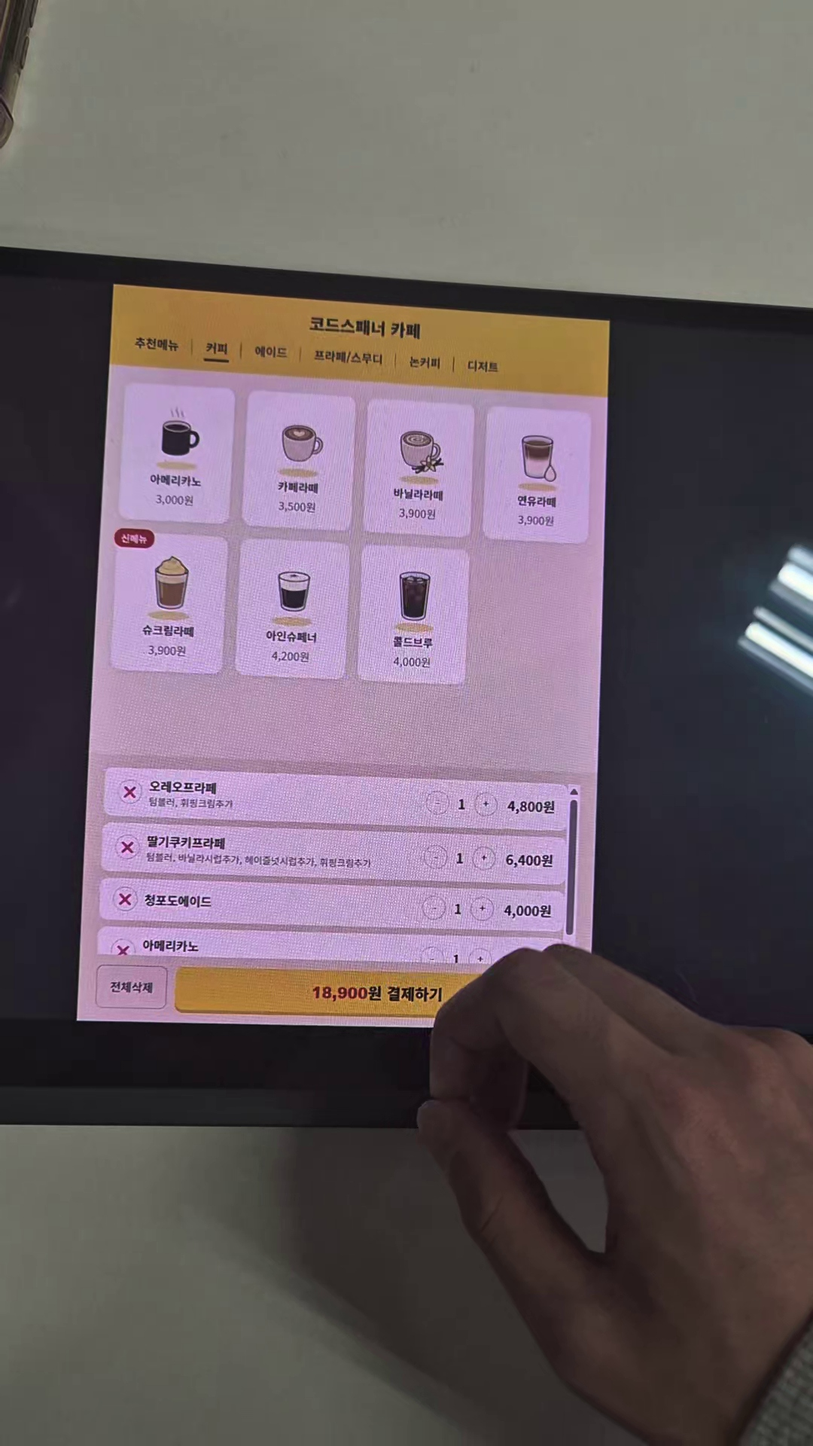action_button: (175, 966, 566, 1019), (95, 965, 167, 1008)
cart_item: (103, 768, 568, 832), (101, 822, 565, 885), (100, 878, 564, 933), (97, 926, 564, 967)
category_tab: (312, 347, 385, 368), (133, 331, 182, 356), (201, 338, 233, 358), (252, 343, 290, 359), (408, 354, 442, 370), (466, 359, 500, 375)
menu_back: (109, 528, 229, 675), (116, 383, 236, 525), (355, 544, 471, 688), (241, 390, 357, 533), (234, 538, 350, 680), (362, 397, 477, 540), (482, 406, 592, 546)
menu_name: (140, 622, 196, 639), (148, 472, 203, 489), (392, 486, 444, 503), (265, 629, 318, 644), (276, 480, 320, 495), (391, 635, 435, 650), (517, 494, 558, 509)
menu_price: (153, 493, 195, 507), (392, 655, 431, 670), (146, 644, 187, 658), (277, 500, 317, 514), (516, 514, 556, 528), (270, 649, 310, 663), (398, 507, 437, 521)
